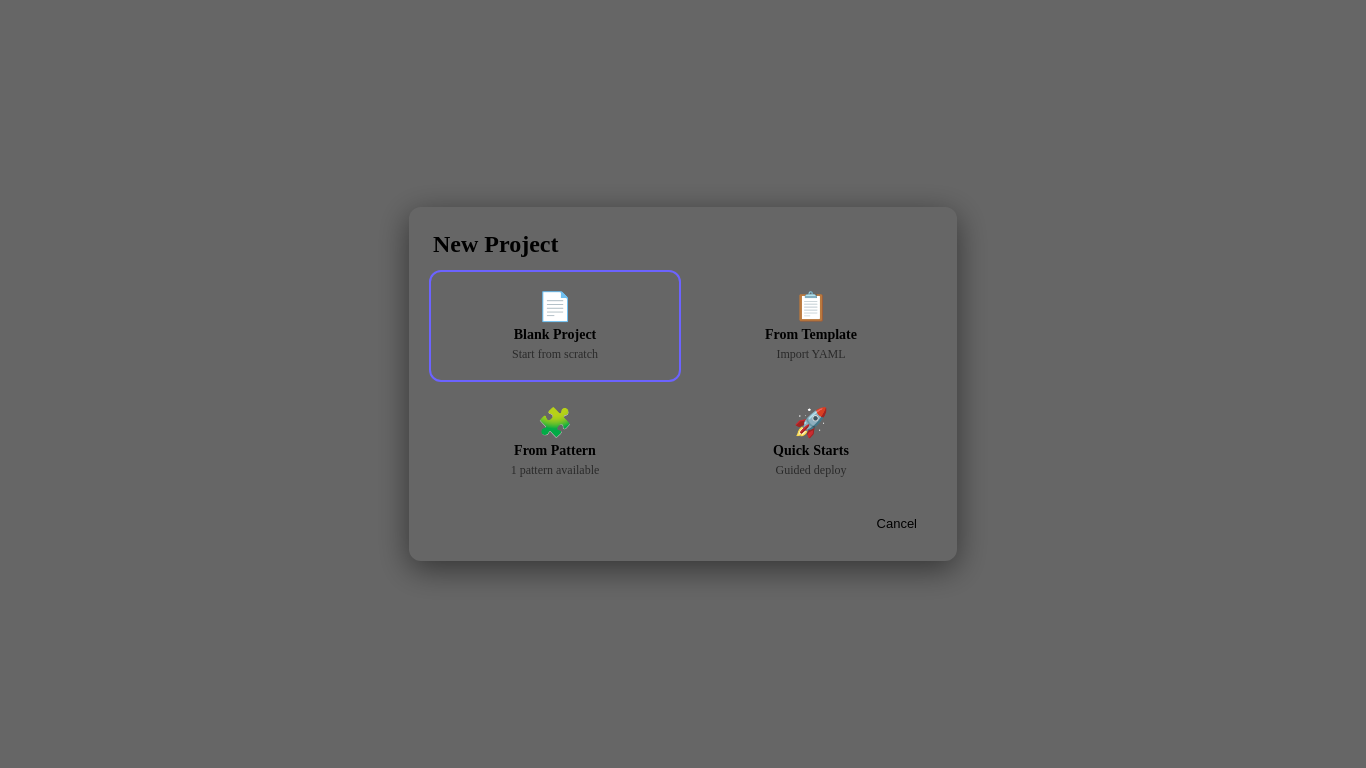
new project creation › shows pattern creation rejection without navigating
Check: the text "Quick Starts" is shown, box [773, 443, 849, 458]
Click the text "From Pattern": click(555, 450) [514, 443, 596, 458]
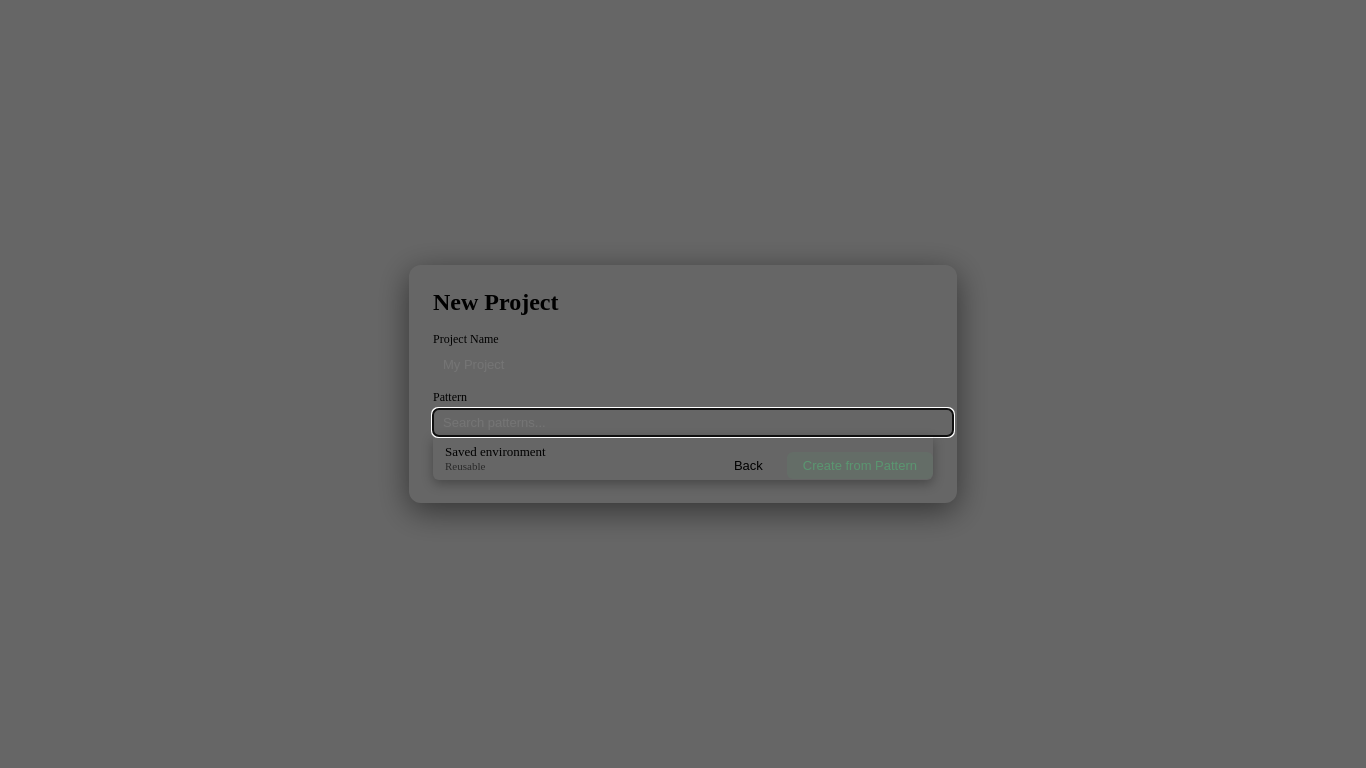
Click the text "Saved environment": click(495, 452) [445, 444, 546, 459]
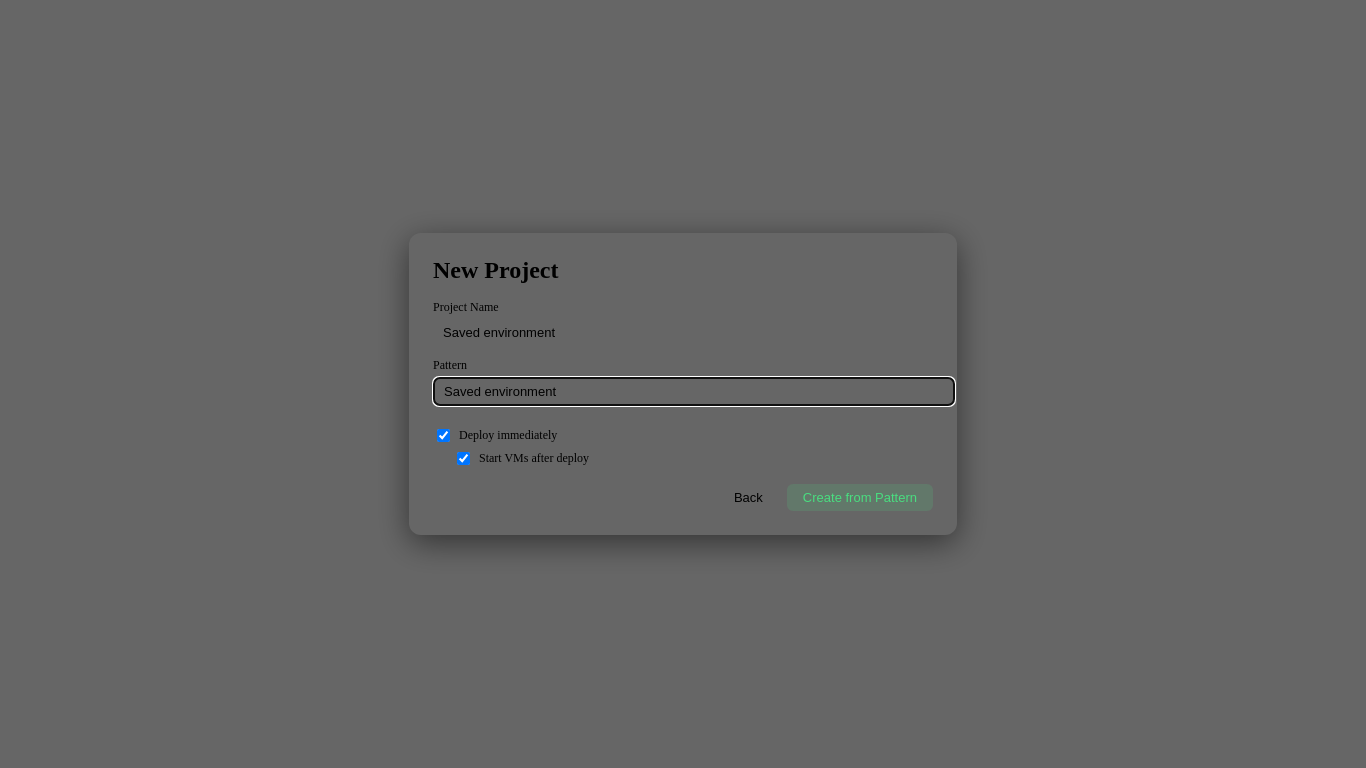
Click the button "Create from Pattern": click(860, 498) [787, 484, 933, 511]
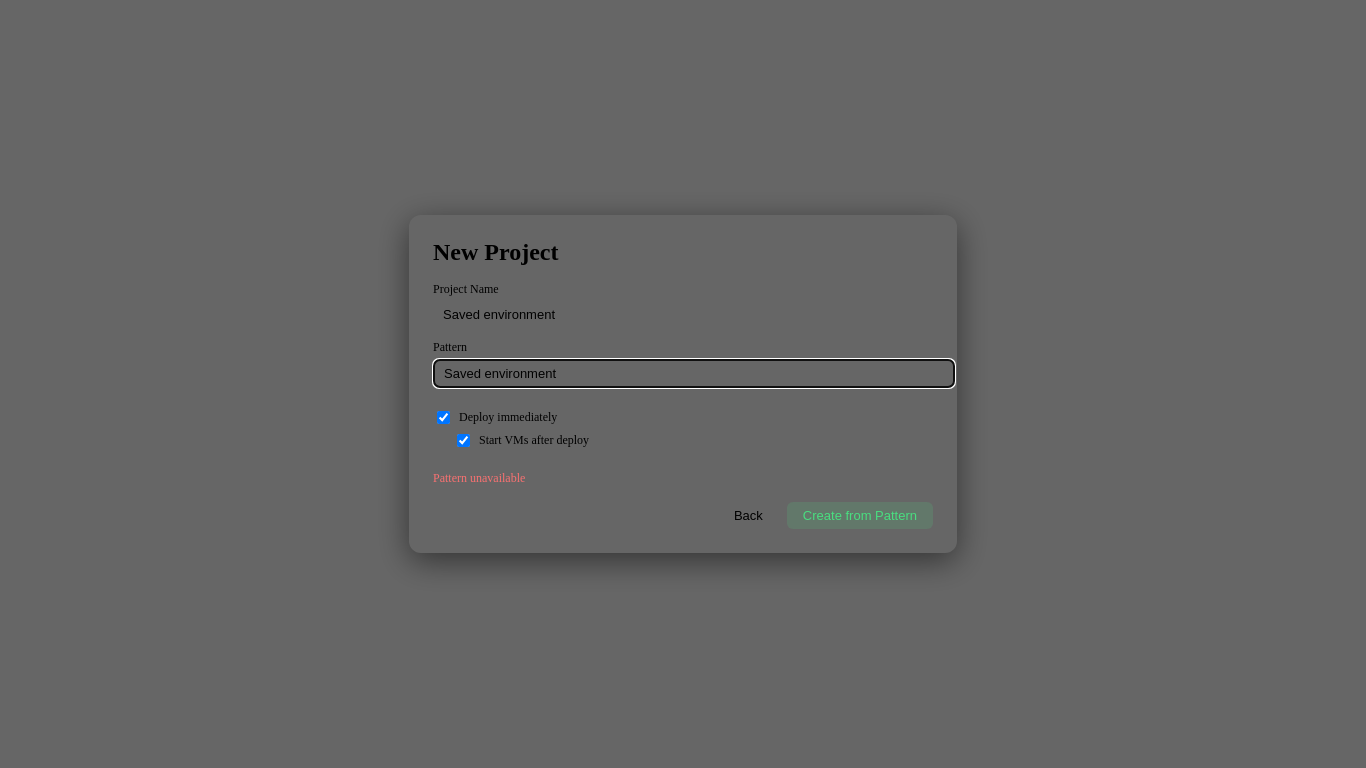
Check: the text "Pattern unavailable" is shown, box [433, 471, 525, 485]
